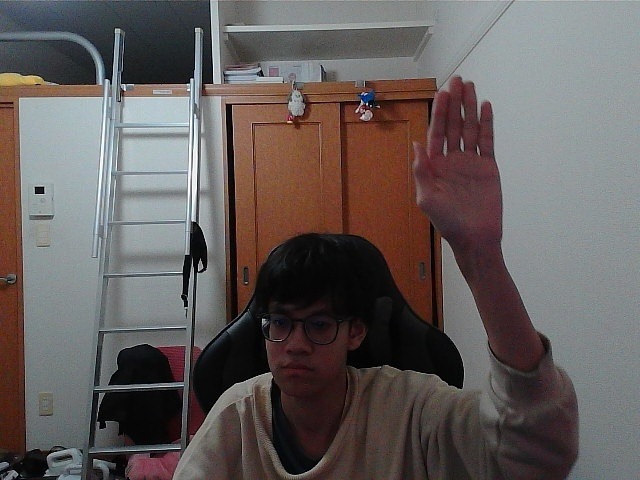open_palm: (419, 84, 487, 234)
